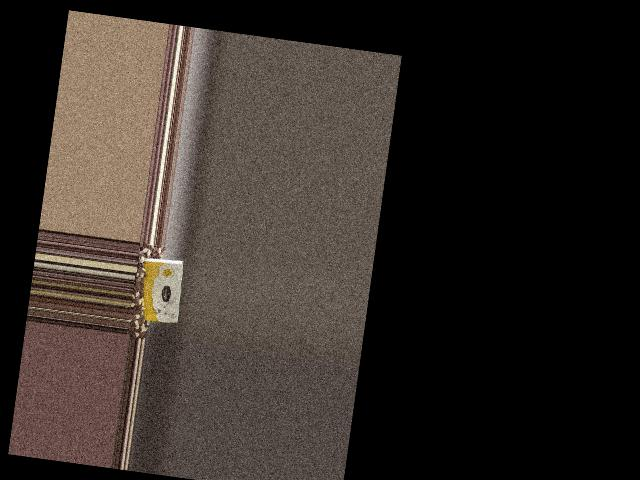chocolate: (134, 252, 188, 328)
